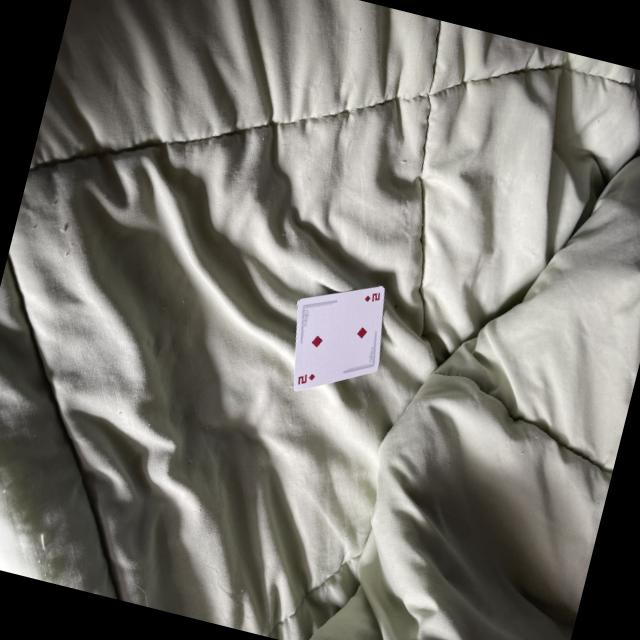2 of diamonds: (292, 287, 382, 392)
